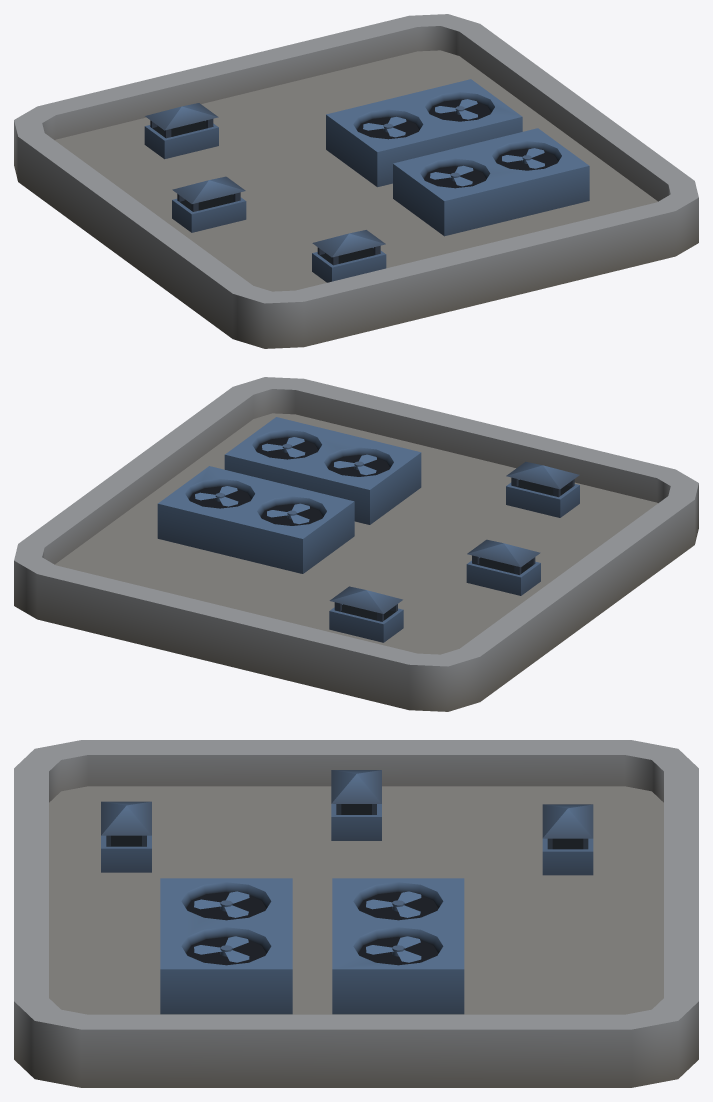
The model's file is House 1 Roof.fbx.
The picture shows the model from 3 angles, top to bottom: view 1: azimuth 30°, elevation 25°; view 2: azimuth 150°, elevation 25°; view 3: azimuth 270°, elevation 25°; orthographic projection. The views are drawn at different scales.
Parts seen in each view (by area): view 1: House1_Roof; view 2: House1_Roof; view 3: House1_Roof.
Boxes of the visible parts, box(x1,y1,x2,y2) form: House1_Roof: box(14, 14, 698, 348); House1_Roof: box(14, 377, 698, 711); House1_Roof: box(14, 740, 698, 1087).
Bounding box in the file's own units: 107 × 13.29 × 107.
